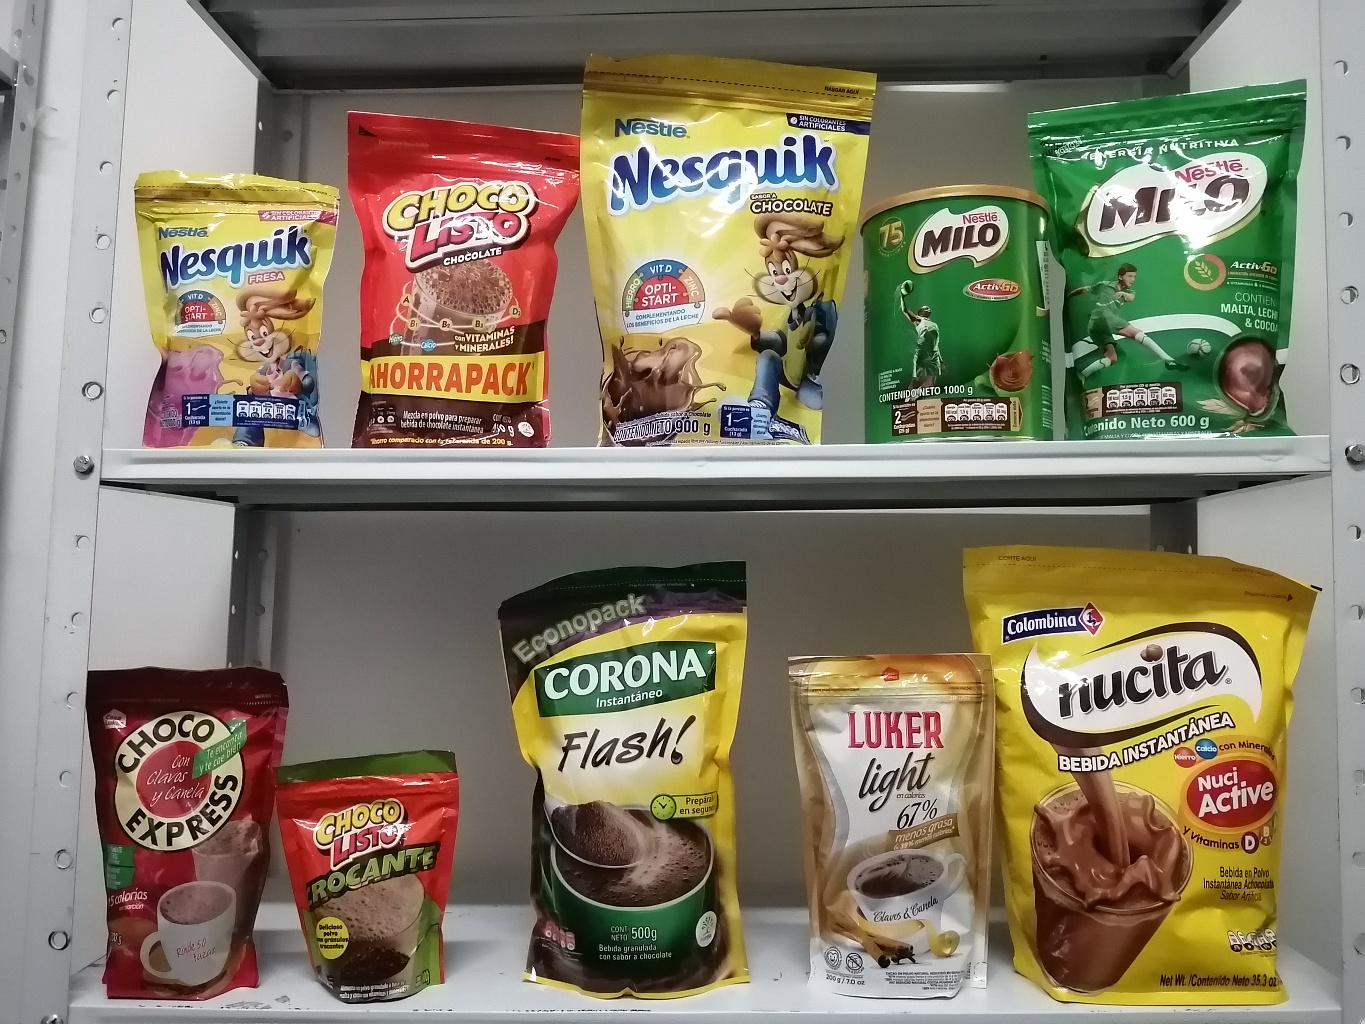COL0170102DYP10000: (267, 748, 468, 1002)
COL0170103DYP40000: (349, 102, 584, 452)
COL0170305DYP20000: (137, 163, 355, 447)
